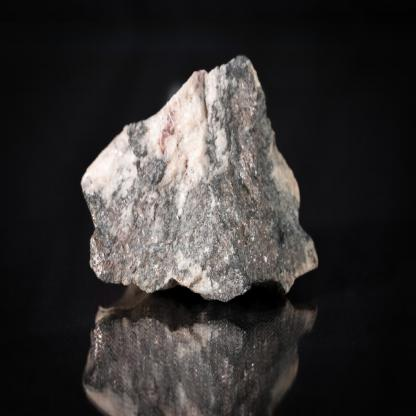Sedimentary_Limestone: (82, 48, 326, 305)
